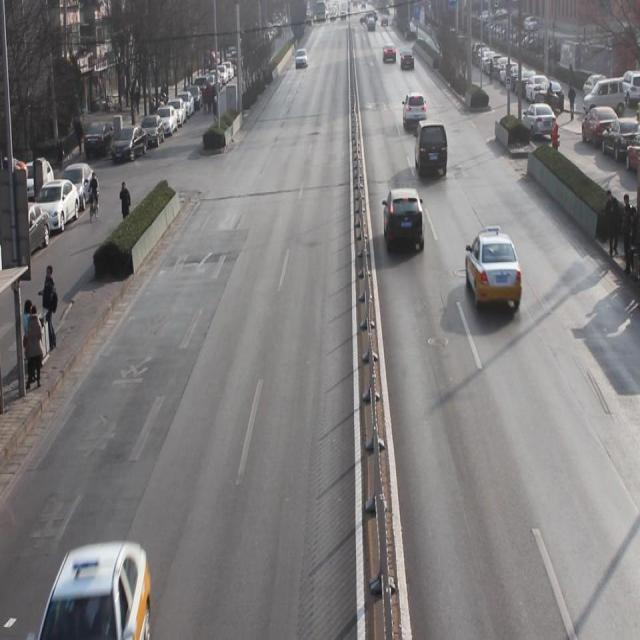car: (38, 541, 151, 640), (464, 229, 524, 316), (383, 190, 427, 256), (404, 92, 426, 132), (382, 41, 398, 67), (400, 49, 415, 73), (295, 45, 309, 70)
truck: (416, 122, 449, 179)
